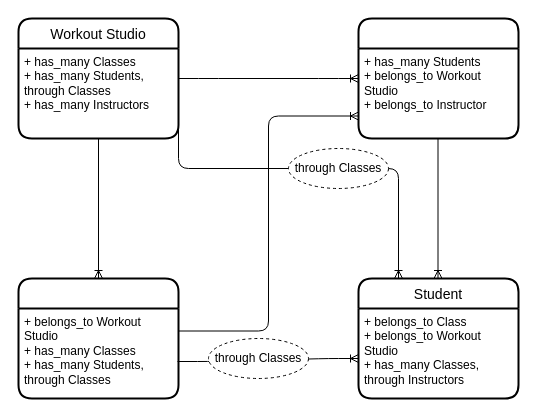
The diagram is 536 pixels wide and 416 high, and some of its shapes have lost their labels. Here are the shapes that lost their labels. From the top down, the box of each, then its label:
(357, 17, 519, 139): Class
(17, 277, 179, 399): Instructor
